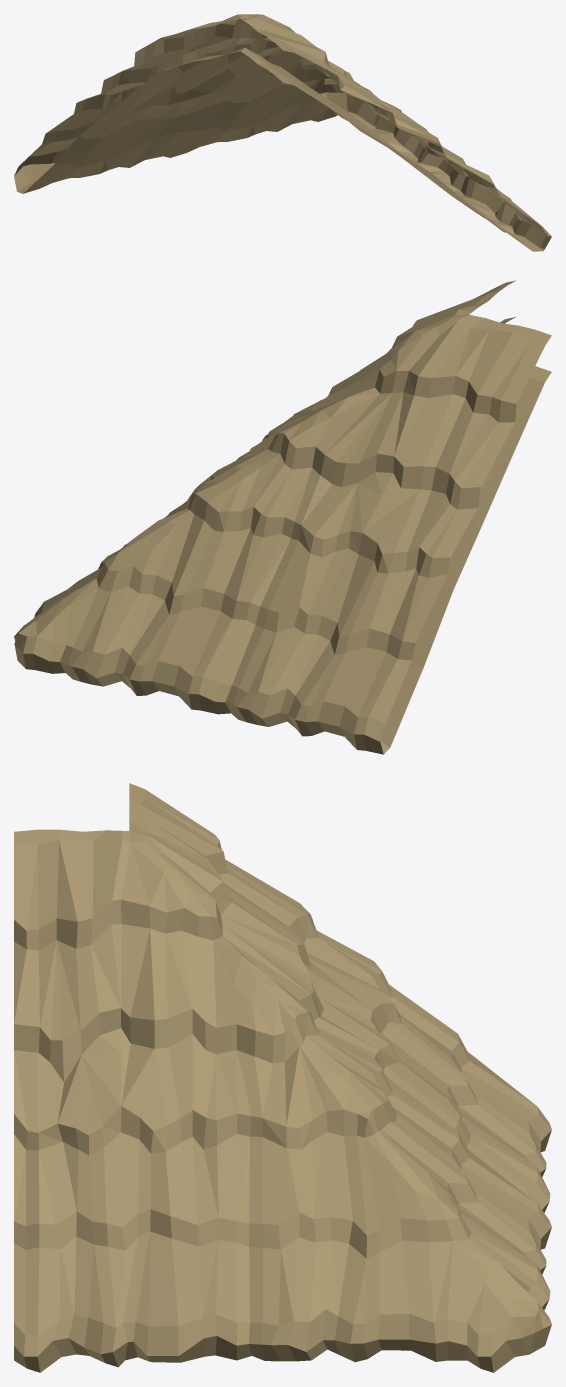
File: rpgpp_ag_roof_02_9x4x3_corner_02.fbx
3 views of the same model, one above another, from view 1: azimuth 30°, elevation 25°; view 2: azimuth 150°, elevation 25°; view 3: azimuth 270°, elevation 25° (orthographic). The views are drawn at different scales.
Parts seen in each view (by area): view 1: rpgpp_ag_roof_02_9x4x3_corner_02; view 2: rpgpp_ag_roof_02_9x4x3_corner_02; view 3: rpgpp_ag_roof_02_9x4x3_corner_02.
Part boxes in pixels (bbox=[...]): rpgpp_ag_roof_02_9x4x3_corner_02: bbox=[14, 14, 551, 251]; rpgpp_ag_roof_02_9x4x3_corner_02: bbox=[14, 280, 551, 754]; rpgpp_ag_roof_02_9x4x3_corner_02: bbox=[14, 783, 551, 1372].
Bounding box in the file's own units: 7.04 × 5.27 × 7.
